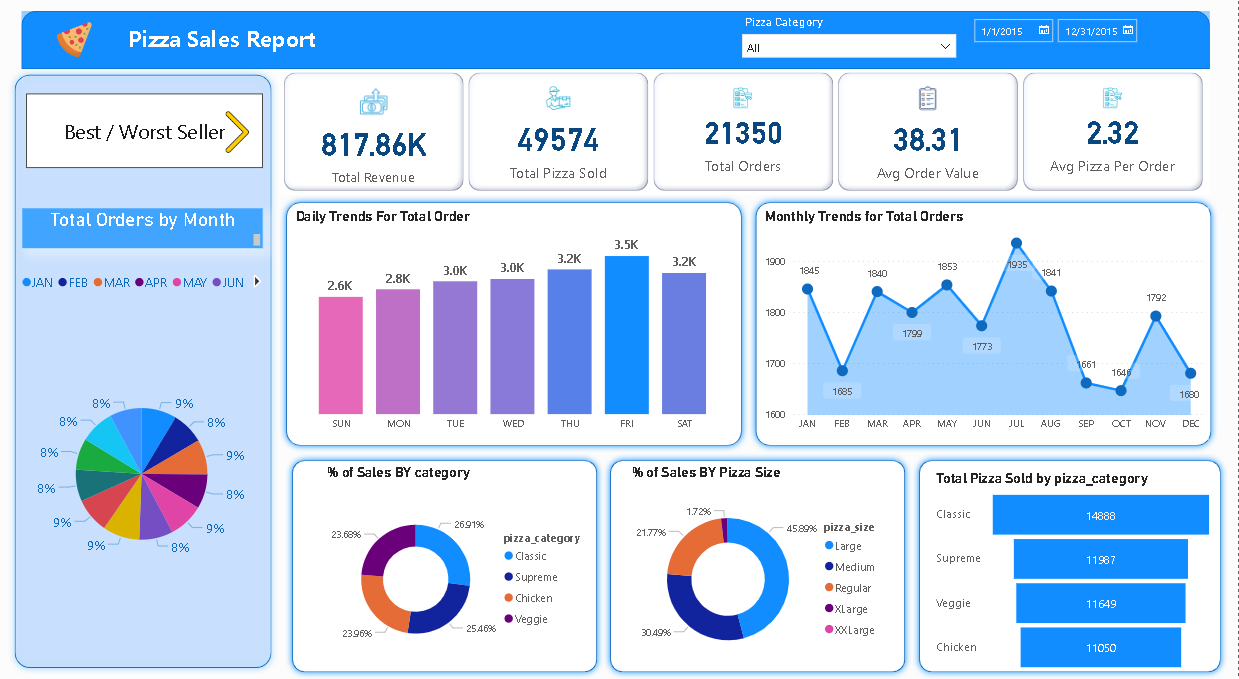

Layout of this report page (visuals, bound fields, positions):
{"tool":"powerbi","page":{"name":"HOME","canvas":[1500,820],"ordinal":0},"visuals":[{"type":"cardVisual","fields":{"Data":["pizza_sales.Total Revenue","pizza_sales.Total Pizza Sold","pizza_sales.Total Orders","pizza_sales.Avg Order Value","pizza_sales.Avg Pizza Per Order"]},"box":[341.9,83.9,1122.6,153.2],"z":0},{"type":"shape","box":[30,14,1434,70],"z":1000},{"type":"textbox","box":[140,24,268,54],"z":2000},{"type":"image","box":[66,22,58,54],"z":3000},{"type":"shape","box":[342,238,566,310],"z":4000},{"type":"columnChart","title":"Daily Trends For Total Order","fields":{"Category":["pizza_sales.Order Day"],"Y":["pizza_sales.Total Orders"]},"box":[356,252,534,280],"z":5000},{"type":"shape","box":[908,238,566,310],"z":6000},{"type":"areaChart","title":"Monthly Trends for Total Orders","fields":{"Category":["pizza_sales.Order Month"],"Y":["pizza_sales.Total Orders"]},"box":[924,252,540,280],"z":7000},{"type":"shape","box":[350,548,384,272],"z":8000},{"type":"shape","box":[734,548,372,272],"z":9000},{"type":"shape","box":[1106,548,380,272],"z":10000},{"type":"donutChart","title":"% of Sales BY category","fields":{"Category":["pizza_sales.pizza_category"],"Y":["pizza_sales.Total Revenue"]},"box":[394,562,322,258],"z":11000},{"type":"donutChart","title":"% of Sales BY Pizza Size","fields":{"Y":["pizza_sales.Total Revenue"],"Category":["pizza_sales.pizza_size"]},"box":[762,562,322,258],"z":12000},{"type":"funnel","fields":{"Category":["pizza_sales.pizza_category"],"Y":["pizza_sales.Total Pizza Sold"]},"box":[1130,568,344,248],"z":13000},{"type":"shape","box":[14,84,326,732],"z":14000},{"type":"slicer","fields":{"Values":["pizza_sales.pizza_category"]},"box":[890,14,278,60],"z":15000},{"type":"slicer","fields":{"Values":["pizza_sales.order_date"]},"box":[1168,14,268,70],"z":16000},{"type":"pageNavigator","box":[36,114,286,90],"z":17000},{"type":"image","box":[258,130,64,60],"z":18000},{"type":"textbox","title":"Total Orders  by Month","box":[30,252,292,50],"z":19000},{"type":"pieChart","fields":{"Category":["pizza_sales.Order Month"],"Y":["pizza_sales.Total Orders"]},"box":[26,320,300,474],"z":20000}]}

Visuals, with their boxes in screenshot pixels (x1, y1, x2, y2), scaled from the page's 1500x820 canvas onto the 1239x679 screenshot:
cardVisual - pizza_sales.Total Revenue x pizza_sales.Total Pizza Sold: select_region(282, 69, 1210, 196)
shape: select_region(25, 12, 1209, 70)
textbox: select_region(116, 20, 337, 65)
image: select_region(55, 18, 102, 63)
shape: select_region(282, 197, 750, 454)
"Daily Trends For Total Order" columnChart: select_region(294, 209, 735, 441)
shape: select_region(750, 197, 1218, 454)
"Monthly Trends for Total Orders" areaChart: select_region(763, 209, 1209, 441)
shape: select_region(289, 454, 606, 678)
shape: select_region(606, 454, 914, 678)
shape: select_region(914, 454, 1227, 678)
"% of Sales BY category" donutChart: select_region(325, 465, 591, 678)
"% of Sales BY Pizza Size" donutChart: select_region(629, 465, 895, 678)
funnel - pizza_sales.pizza_category x pizza_sales.Total Pizza Sold: select_region(933, 470, 1218, 676)
shape: select_region(12, 70, 281, 676)
slicer - pizza_sales.pizza_category: select_region(735, 12, 965, 61)
slicer - pizza_sales.order_date: select_region(965, 12, 1186, 70)
pageNavigator: select_region(30, 94, 266, 169)
image: select_region(213, 108, 266, 157)
"Total Orders  by Month" textbox: select_region(25, 209, 266, 250)
pieChart - pizza_sales.Order Month x pizza_sales.Total Orders: select_region(21, 265, 269, 657)
